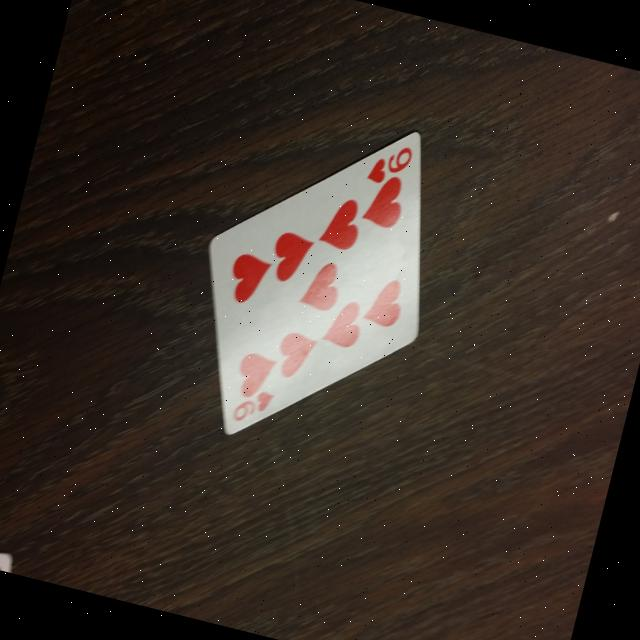9h: (354, 127, 426, 198), (224, 374, 278, 432)
